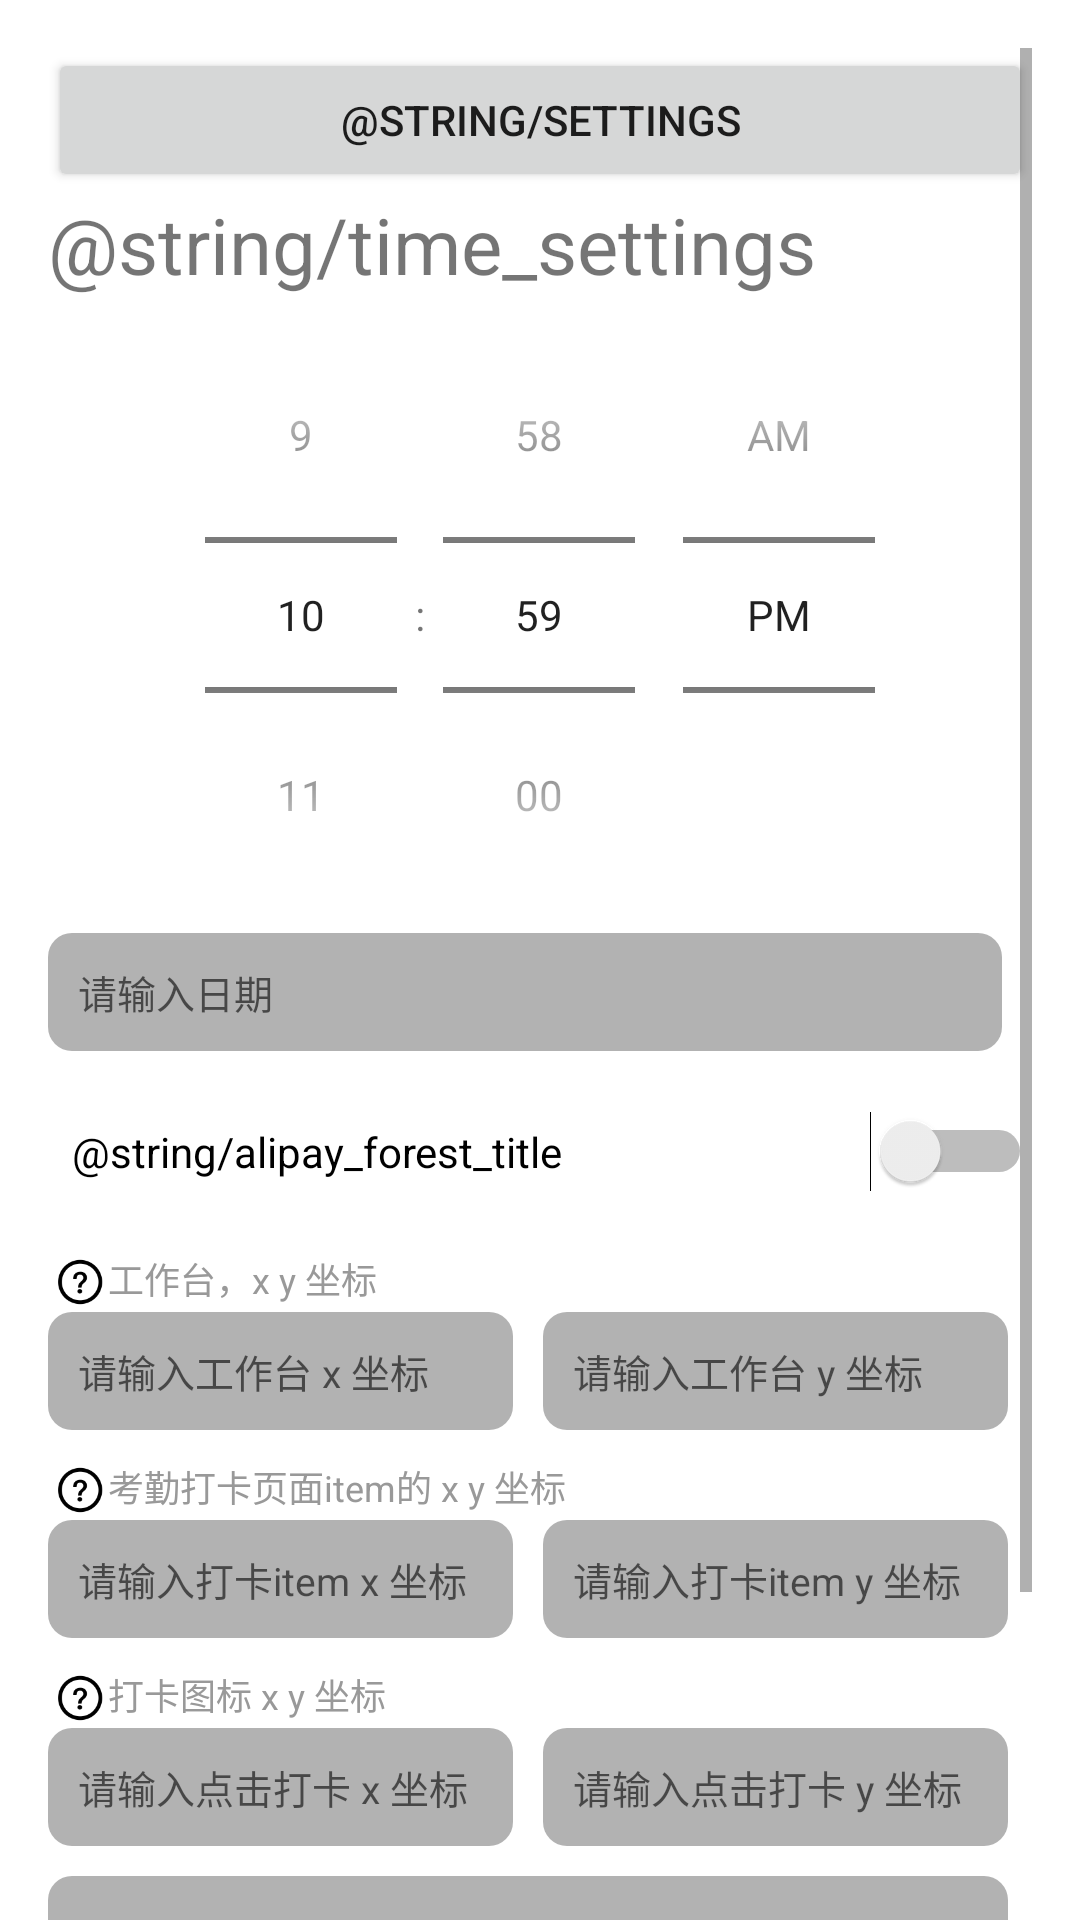

Screen size 1080w x 1920h. Icon name, then its box in pixels as (x1, y1, x2, y2):
help: (58, 1259, 103, 1305), (58, 1467, 103, 1513), (58, 1675, 103, 1721)
